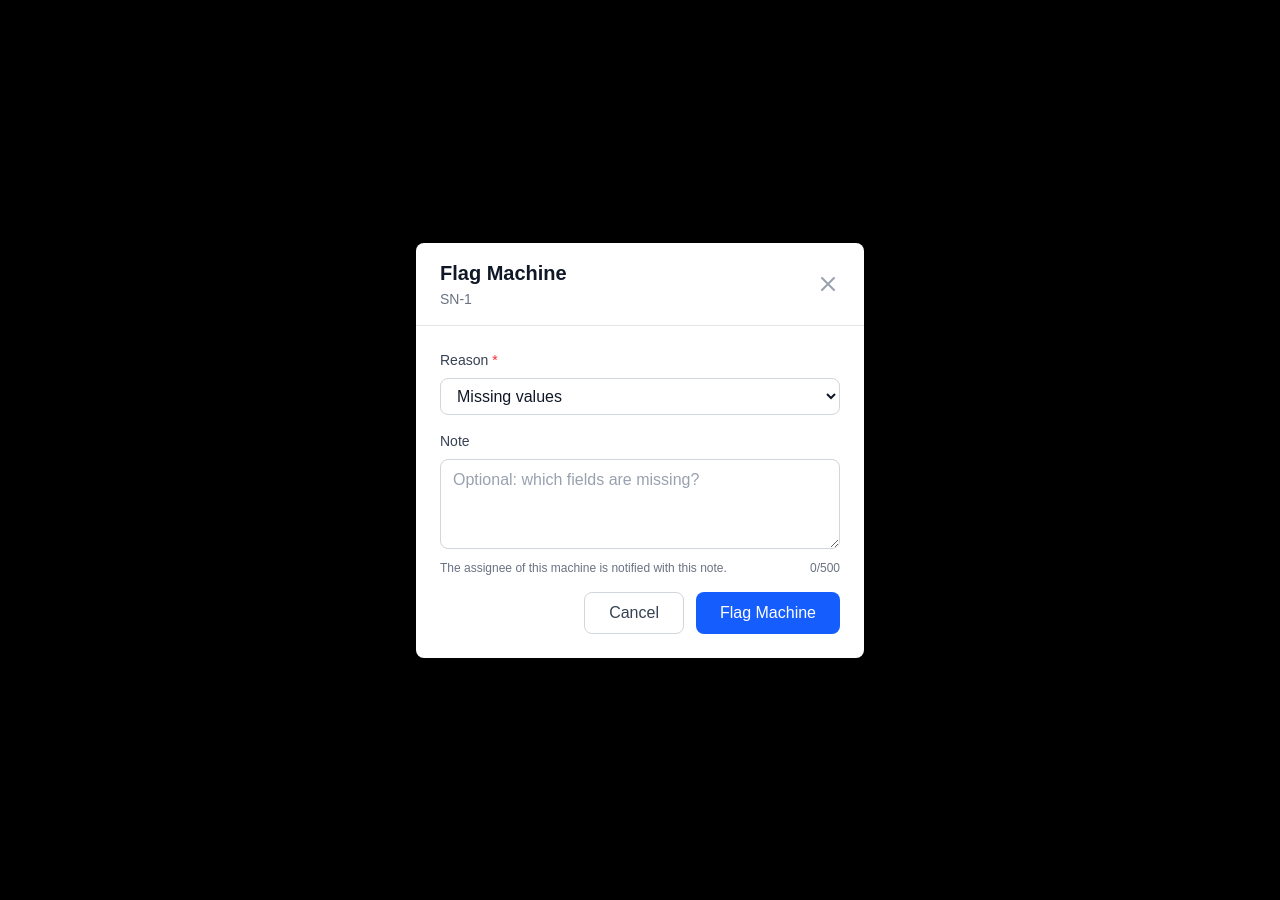
Scenario: FlagMachineModal › keeps the modal open and shows the error when the API rejects
The width and height of the screenshot is (1280, 900).
Click the button "Flag Machine": (768, 612) [696,592,840,634]
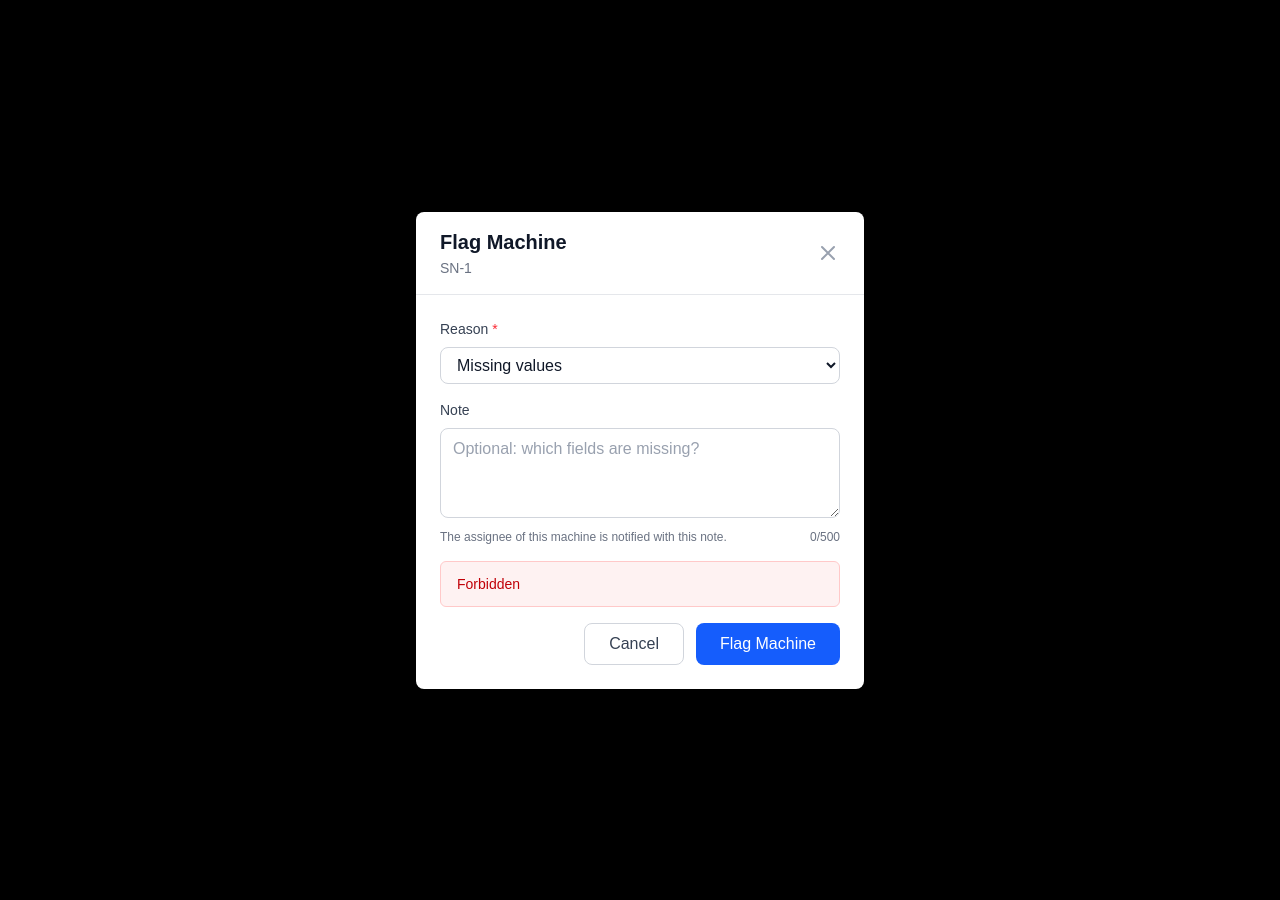
Check: the text "Forbidden" is shown, box [440,560,840,606]
